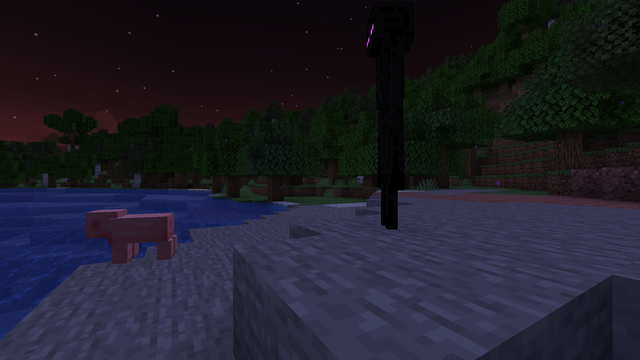cochons: (112, 210, 168, 266)
endermens: (356, 0, 422, 232)
